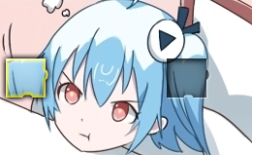gap: (167, 58, 209, 98)
